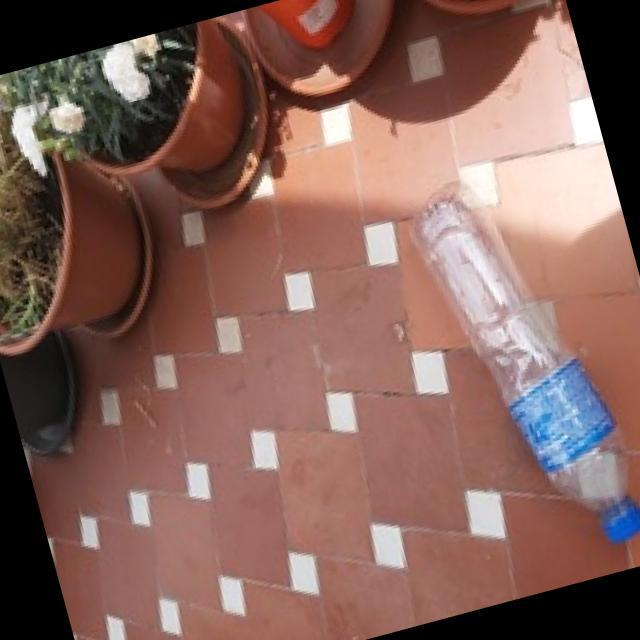good: (391, 148, 640, 584)
